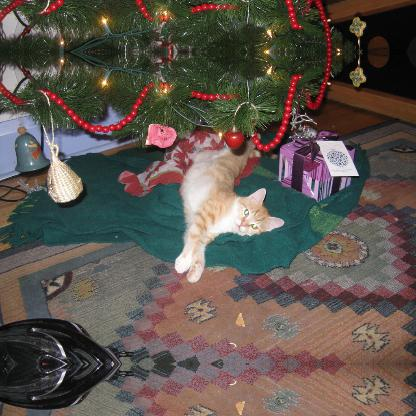Cat: (171, 132, 285, 284)
